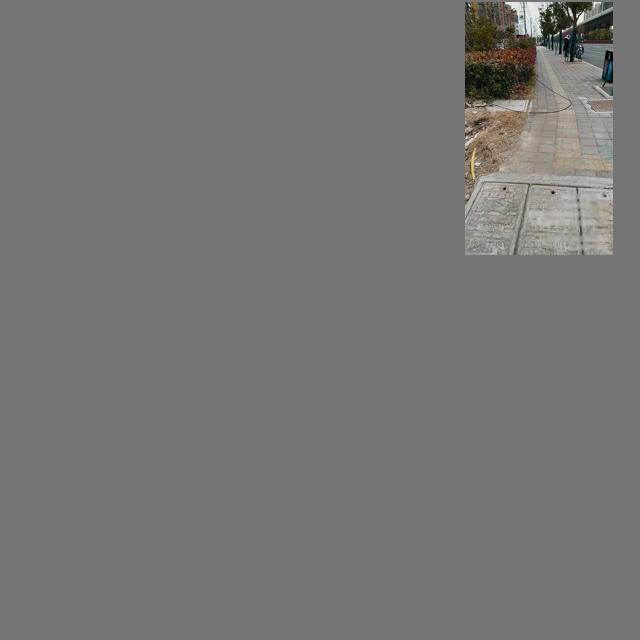good: (466, 177, 612, 255), (486, 98, 530, 112), (586, 98, 613, 112)
